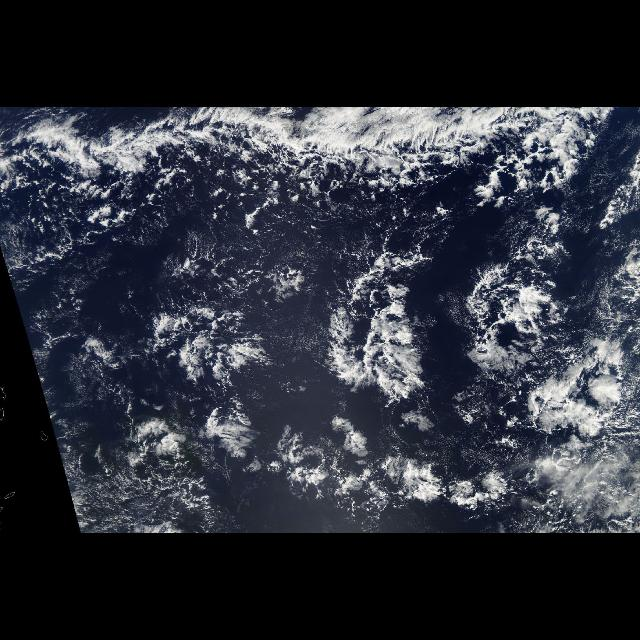Fish: (5, 109, 629, 531)
Flower: (152, 265, 628, 443)
Gravel: (60, 154, 632, 500)
